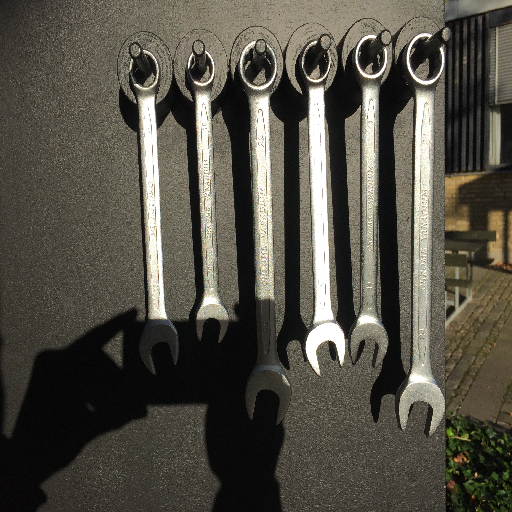bottom: (395, 373, 447, 439), (244, 364, 294, 430), (304, 321, 347, 375), (139, 320, 181, 375), (349, 317, 389, 370), (193, 299, 231, 347)
top: (403, 32, 446, 94), (237, 40, 279, 95), (352, 34, 388, 88), (126, 47, 164, 97), (297, 40, 333, 90), (185, 49, 216, 93)
